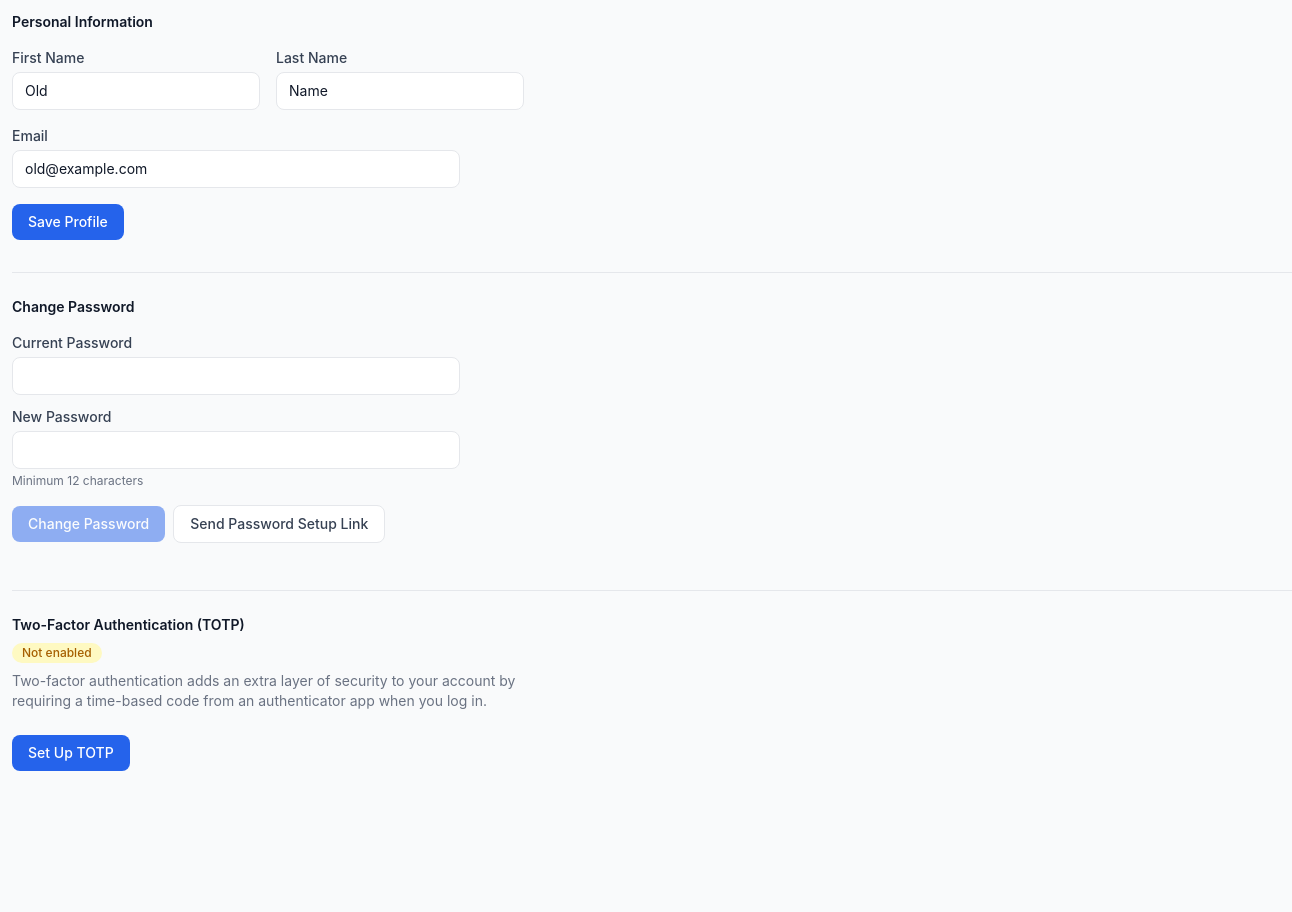
it: ProfileTab › saves the profile contract and refreshes the session
Replace the text in the field below "First Name" with "New". click: x=136, y=91
box: [12,72,260,110]
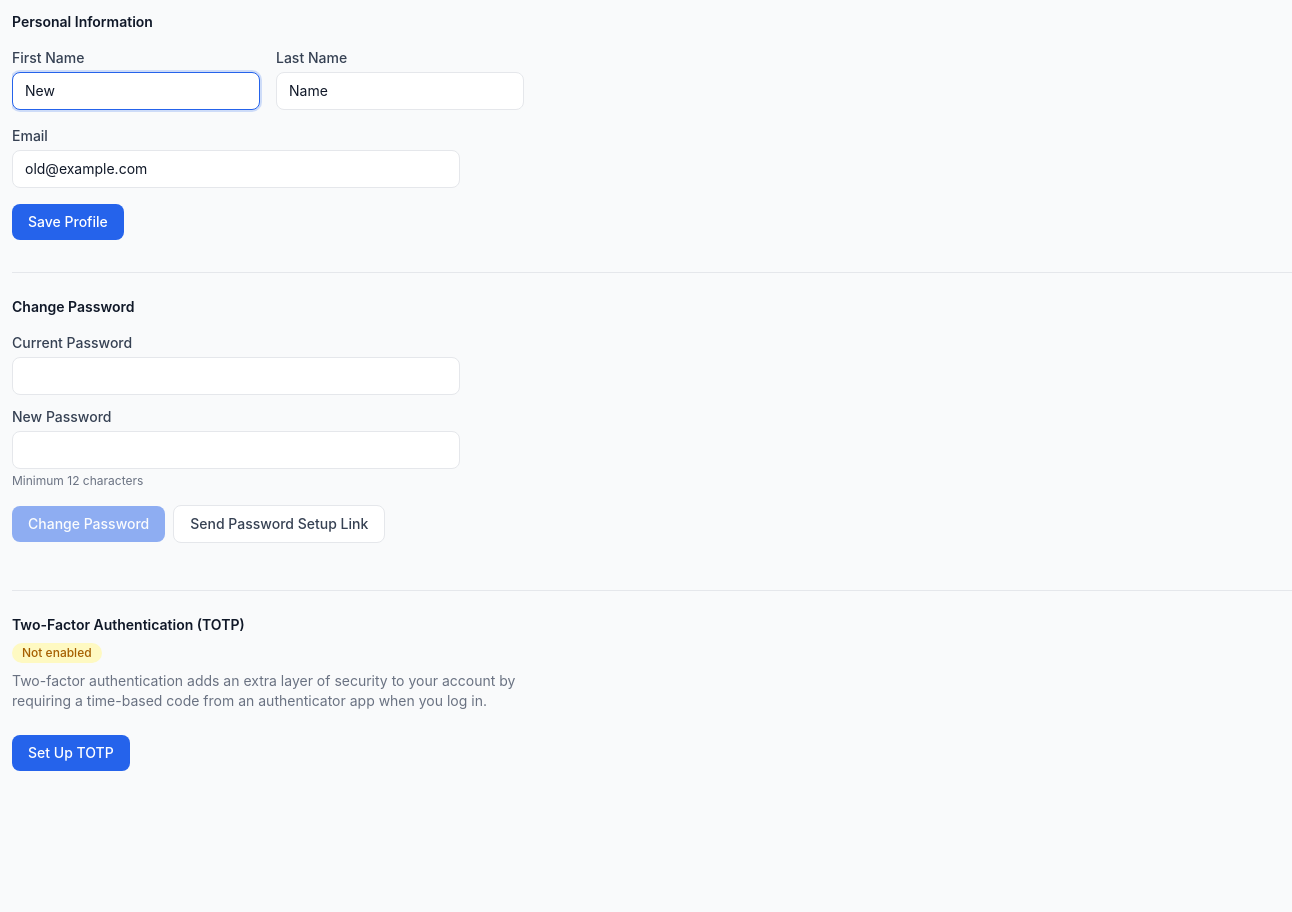
Replace the text in the field below "Last Name" with "Person". click: x=400, y=91
box: [276,72,524,110]
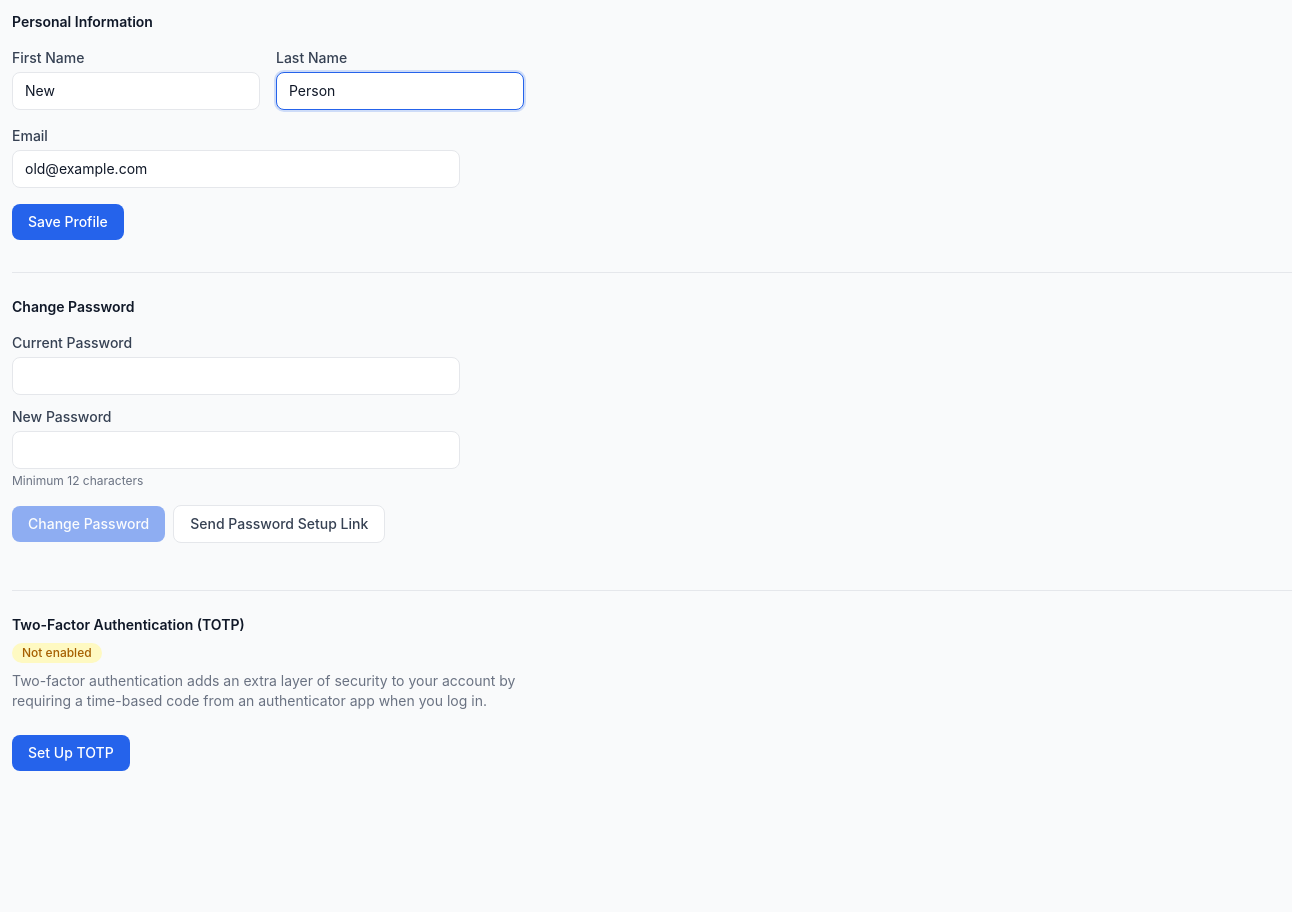
Replace the text in the field below "Email" with "new@example.com". click: x=236, y=169
box: [12,150,460,188]
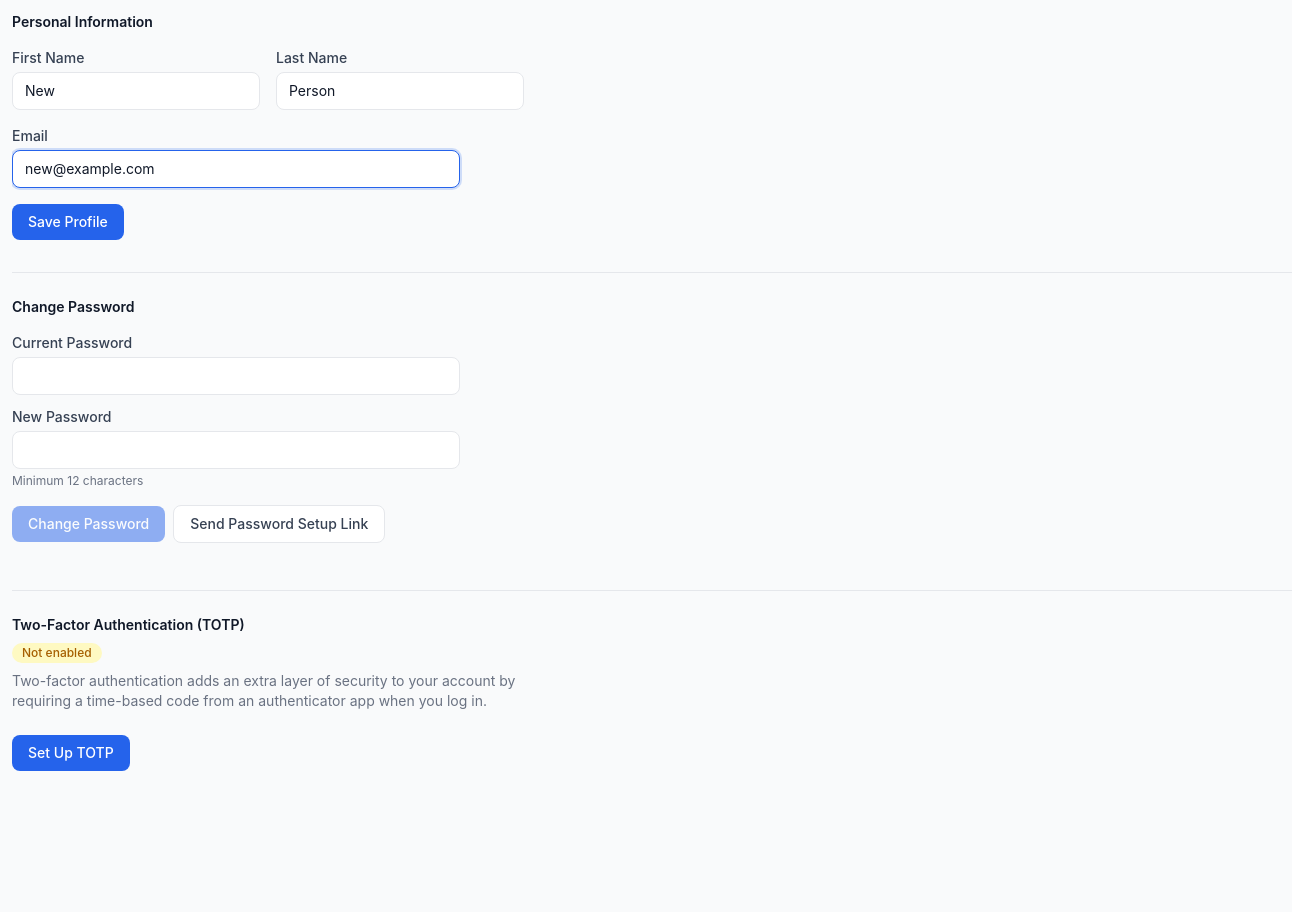
Click the button "Save Profile". click: x=68, y=222
box: [12,204,124,240]
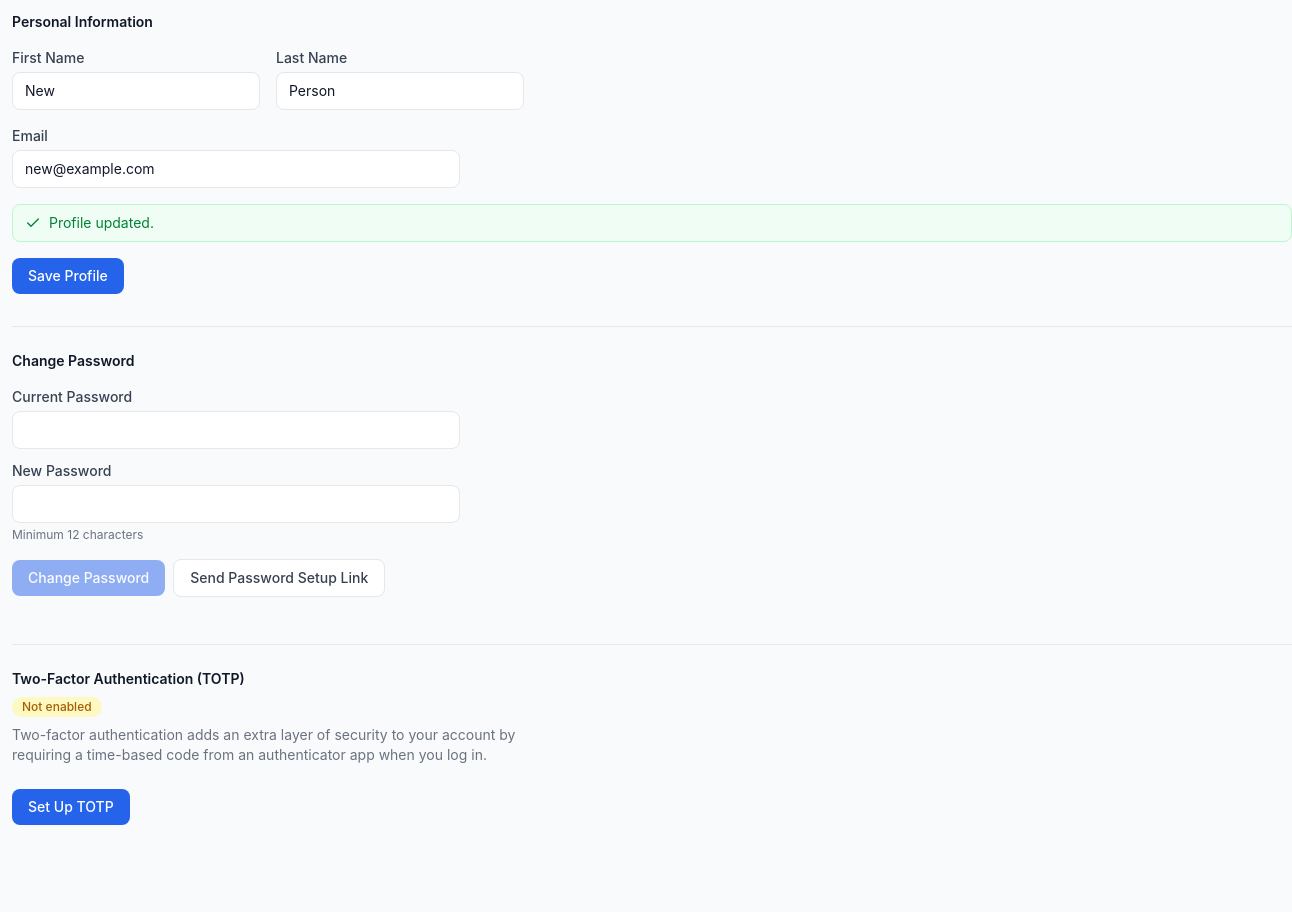
Expected: the text "Profile updated." is shown, [12,204,1291,242]
